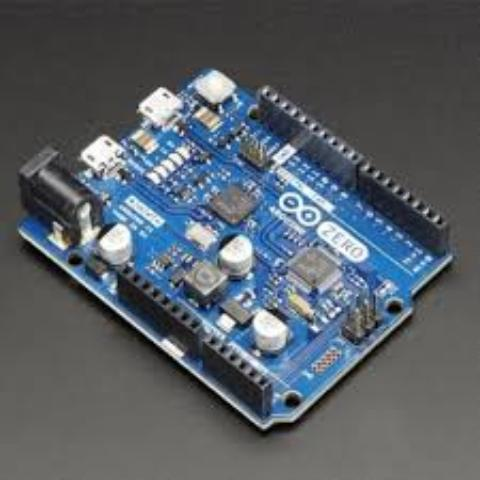Arduino-Zero: (24, 54, 464, 474)
